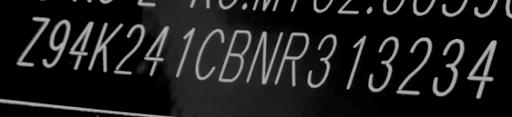letter: (394, 35, 434, 96), (245, 28, 285, 87), (430, 36, 466, 97), (273, 30, 311, 87), (216, 28, 254, 83), (14, 12, 50, 69), (466, 39, 498, 102), (86, 21, 124, 74), (368, 34, 400, 93), (40, 18, 74, 71), (112, 22, 146, 75), (306, 33, 338, 88), (194, 26, 224, 83), (66, 18, 96, 73), (142, 24, 172, 79), (344, 33, 368, 92), (174, 26, 196, 81)
